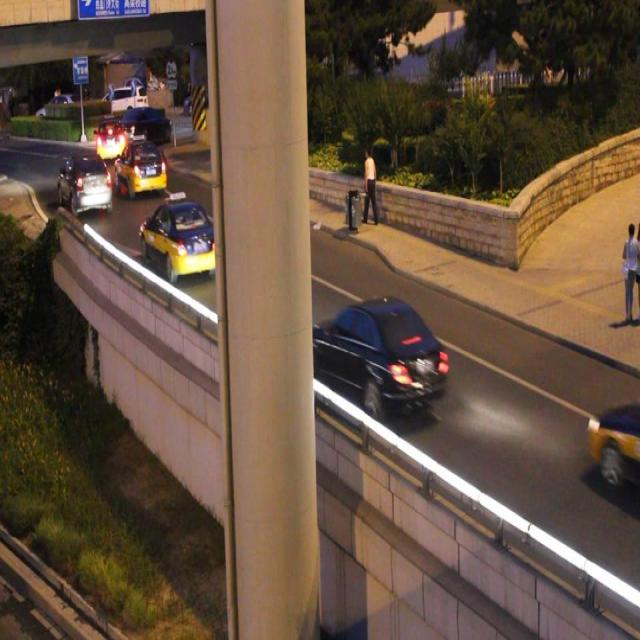car: (306, 299, 445, 411), (141, 200, 219, 276), (588, 395, 640, 485), (60, 154, 111, 212), (117, 142, 166, 192), (96, 123, 128, 159)
